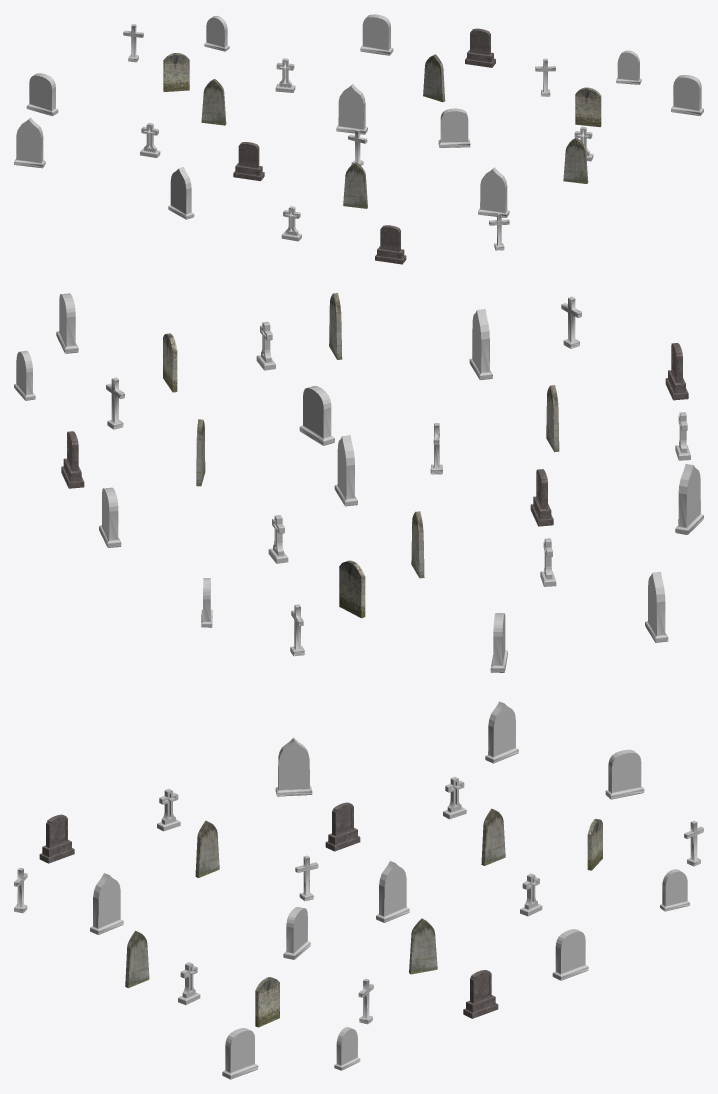
File: Cova2.fbx
3 views of the same model, one above another, from view 1: azimuth 30°, elevation 25°; view 2: azimuth 150°, elevation 25°; view 3: azimuth 270°, elevation 25° (orthographic). The views are drawn at different scales.
Parts seen in each view (by area): view 1: Grave8.001; view 2: Grave8.001; view 3: Grave8.001.
Part boxes in pixels (x1,y1,x2,y2): Grave8.001: [14, 14, 703, 264]; Grave8.001: [14, 293, 703, 672]; Grave8.001: [14, 701, 703, 1079].
Bounding box in the file's own units: 1534 × 118 × 1355.
